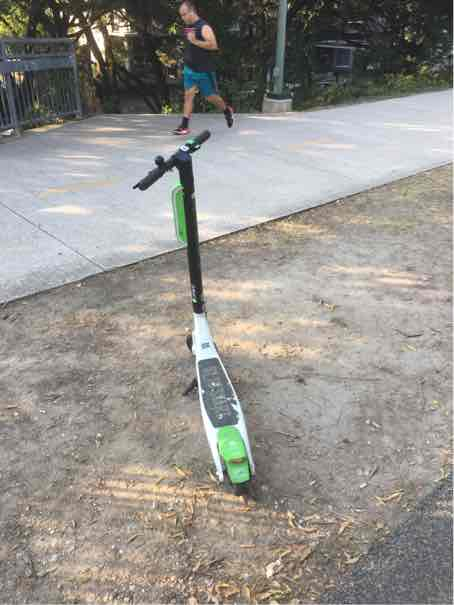scooter: (124, 104, 280, 501)
